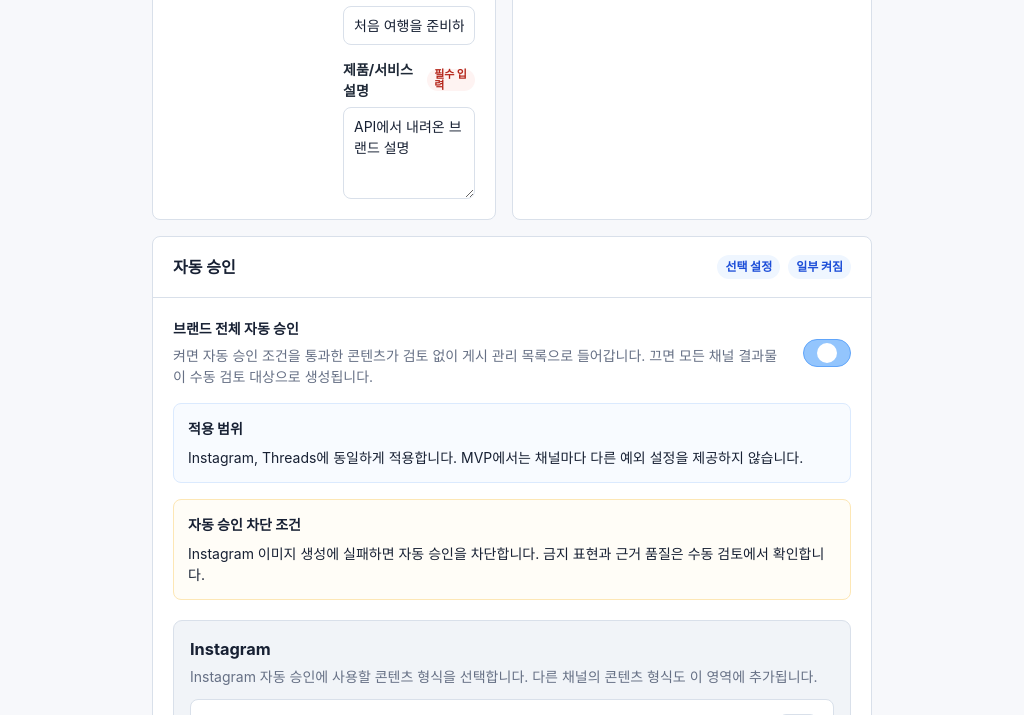
BrandSettingsPage › shows a partial master state and enables every available Instagram format when clicked
(page scrolled)
Expected: the text "일부 켜짐" is shown, top-left (788, 255), bottom-right (851, 279)
Click the switch named "브랜드 전체 자동 승인": coordinates (827, 353) top-left (803, 339), bottom-right (851, 367)
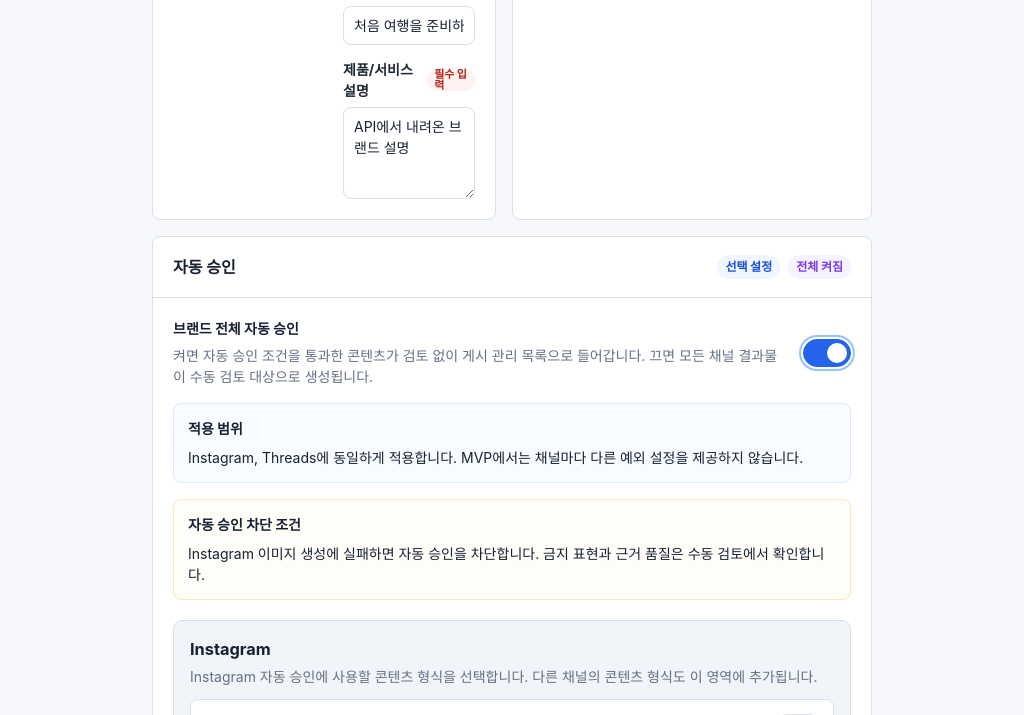
Expected: the text "전체 켜짐" is shown, top-left (788, 255), bottom-right (851, 279)
